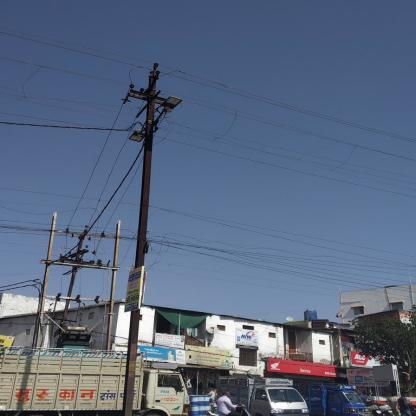Electrical Pole: (103, 59, 182, 416)
